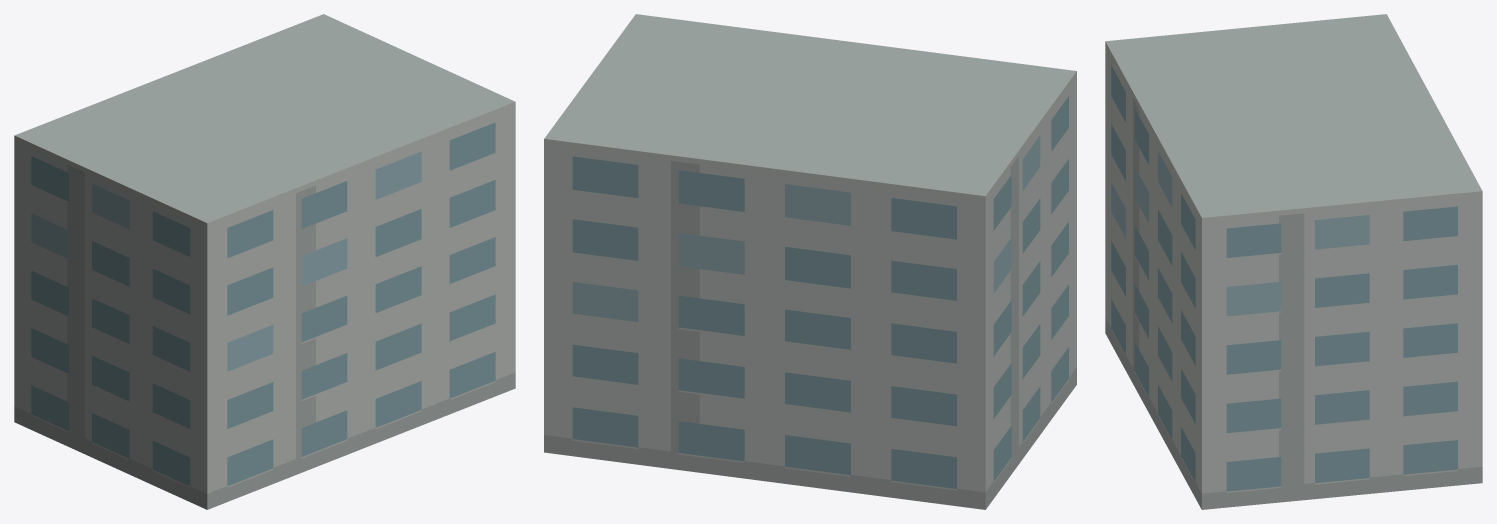
The model's file is survey-upis-32830706.glb.
3 views of the same model, side by side, from view 1: azimuth 30°, elevation 25°; view 2: azimuth 150°, elevation 25°; view 3: azimuth 270°, elevation 25° (orthographic). The views are drawn at different scales.
Parts seen in each view (by area): view 1: survey-upis-32830706.tmp; view 2: survey-upis-32830706.tmp; view 3: survey-upis-32830706.tmp.
Part boxes in pixels (x1,y1,x2,y2): survey-upis-32830706.tmp: (14, 14, 515, 509); survey-upis-32830706.tmp: (544, 14, 1076, 509); survey-upis-32830706.tmp: (1105, 14, 1482, 509).
Bounding box in the file's own units: 20.84 × 13.9 × 16.29.
